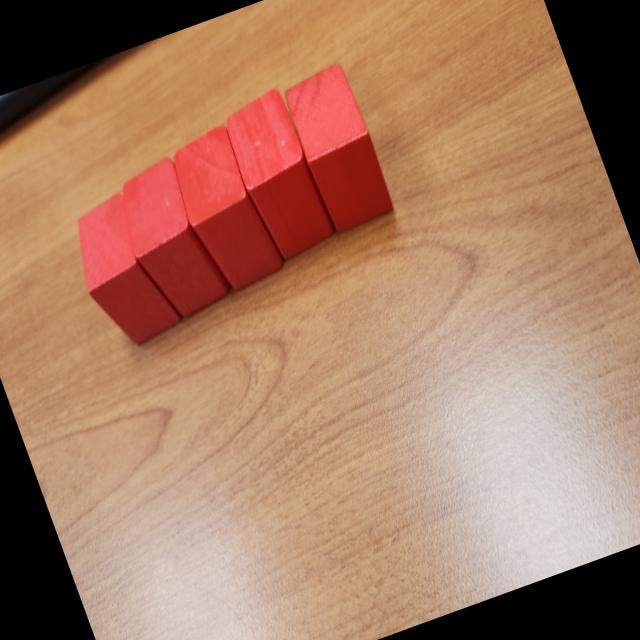red: (160, 119, 290, 299), (106, 150, 236, 328), (216, 85, 342, 268), (58, 183, 188, 357), (278, 60, 400, 236)
